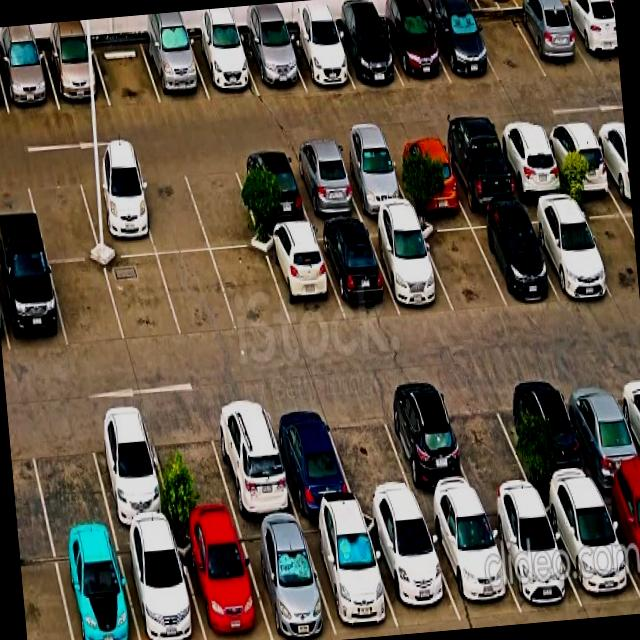car: (560, 500, 632, 620), (380, 521, 452, 635), (442, 512, 511, 630), (252, 529, 325, 640), (316, 523, 385, 640), (214, 428, 288, 537), (184, 535, 258, 640), (504, 505, 568, 624), (97, 440, 169, 545), (392, 403, 462, 510), (283, 426, 347, 536), (57, 550, 133, 640), (515, 382, 577, 492), (452, 396, 516, 500), (126, 544, 194, 640), (545, 204, 607, 309), (572, 386, 636, 486), (382, 220, 444, 318), (489, 210, 549, 310), (84, 161, 148, 253), (398, 125, 456, 224), (454, 127, 512, 225), (330, 221, 387, 319), (269, 232, 331, 322), (238, 148, 302, 235), (146, 10, 202, 109), (504, 125, 560, 221), (554, 118, 608, 215), (1, 264, 61, 350), (339, 0, 394, 91), (196, 7, 250, 99), (246, 1, 298, 94), (293, 0, 345, 93), (47, 19, 100, 106), (345, 139, 399, 224), (389, 0, 441, 86), (0, 23, 49, 113), (298, 144, 350, 225), (435, 0, 486, 82), (520, 0, 574, 67)
free: (34, 434, 108, 550), (160, 431, 228, 538), (335, 418, 407, 518), (431, 224, 496, 314), (96, 14, 154, 111), (54, 261, 118, 348), (109, 250, 170, 338), (144, 160, 200, 255), (196, 154, 254, 245), (217, 242, 276, 328), (31, 179, 92, 262), (164, 247, 222, 328), (477, 0, 532, 77)
